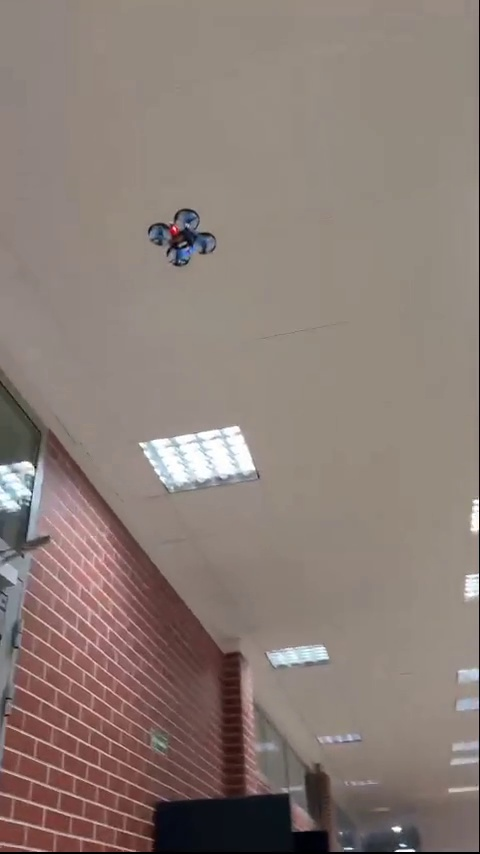drone: (144, 211, 212, 270)
